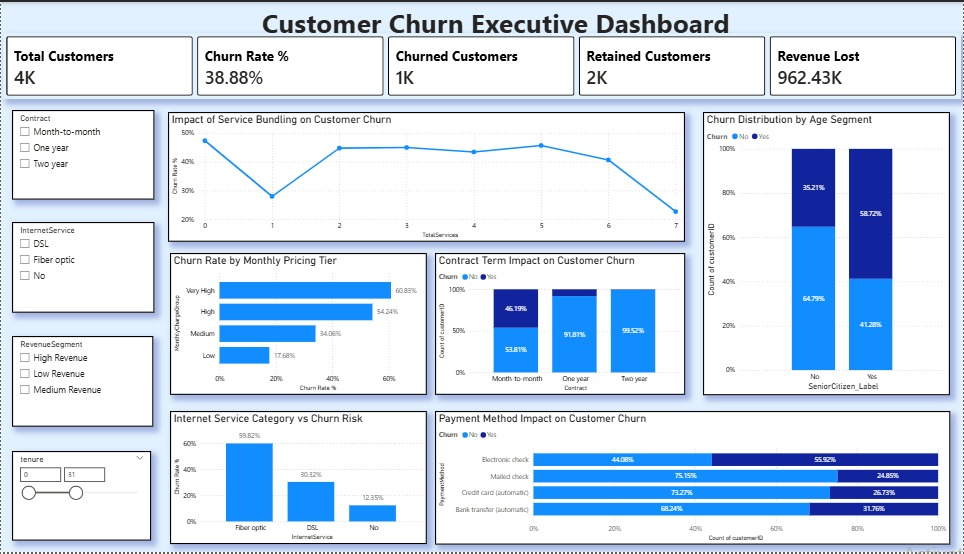

The dashboard page shown, as its layout file describes it:
{"tool":"powerbi","page":{"name":"Executive Overview","canvas":[1750,1000],"ordinal":0},"visuals":[{"type":"cardVisual","fields":{"Data":["TelcoChurn.Total Customers","TelcoChurn.Churn Rate %","TelcoChurn.Churned Customers","TelcoChurn.Retained Customers","TelcoChurn.Revenue Lost"]},"box":[4.1,57.1,1740.8,120.4],"z":0},{"type":"hundredPercentStackedColumnChart","title":"Contract Term Impact on Customer Churn","fields":{"Category":["TelcoChurn.Contract"],"Series":["TelcoChurn.Churn"],"Y":["CountNonNull(TelcoChurn.customerID)"]},"box":[789.1,456.4,454.5,258.2],"z":1000},{"type":"slicer","fields":{"Values":["TelcoChurn.Contract"]},"box":[20.4,195.9,259.2,163.3],"z":3000},{"type":"slicer","fields":{"Values":["TelcoChurn.InternetService"]},"box":[20.4,400,259.2,165.3],"z":4000},{"type":"slicer","fields":{"Values":["TelcoChurn.RevenueSegment"]},"box":[20.4,608.2,257.1,165.3],"z":5000},{"type":"slicer","fields":{"Values":["TelcoChurn.tenure"]},"box":[20.4,816.3,253.1,163.3],"z":6000},{"type":"hundredPercentStackedColumnChart","title":"Churn Distribution by Age Segment","fields":{"Y":["CountNonNull(TelcoChurn.customerID)"],"Series":["TelcoChurn.Churn"],"Category":["TelcoChurn.SeniorCitizen_Label"]},"box":[1276.4,200,449.1,514.5],"z":7000},{"type":"textbox","box":[0,0,1760,83.6],"z":8000},{"type":"clusteredBarChart","title":"Churn Rate by Monthly Pricing Tier","fields":{"Category":["TelcoChurn.MonthlyChargeGroup"],"Y":["TelcoChurn.Churn Rate %"]},"box":[307.3,456.4,467.3,258.2],"z":9000},{"type":"clusteredColumnChart","title":"Internet Service Category vs Churn Risk","fields":{"Category":["TelcoChurn.InternetService"],"Y":["TelcoChurn.Churn Rate %"]},"box":[307.3,743.6,467.3,241.8],"z":10000},{"type":"lineChart","title":"Impact of Service Bundling on Customer Churn","fields":{"Category":["TelcoChurn.TotalServices"],"Y":["TelcoChurn.Churn Rate %"]},"box":[303.6,200,940,236.4],"z":11000},{"type":"hundredPercentStackedBarChart","title":"Payment Method Impact on Customer Churn","fields":{"Category":["TelcoChurn.PaymentMethod"],"Y":["CountNonNull(TelcoChurn.customerID)"],"Series":["TelcoChurn.Churn"]},"box":[789.8,742.9,936.7,242.9],"z":12000}]}

Visuals, with their boxes in screenshot pixels (x1, y1, x2, y2), scaled from the page's 1750x1000 canvas onto the 964x554 screenshot:
cardVisual - TelcoChurn.Total Customers x TelcoChurn.Churn Rate %: <box>2,32,961,98</box>
"Contract Term Impact on Customer Churn" hundredPercentStackedColumnChart: <box>435,253,685,396</box>
slicer - TelcoChurn.Contract: <box>11,109,154,199</box>
slicer - TelcoChurn.InternetService: <box>11,222,154,313</box>
slicer - TelcoChurn.RevenueSegment: <box>11,337,153,429</box>
slicer - TelcoChurn.tenure: <box>11,452,151,543</box>
"Churn Distribution by Age Segment" hundredPercentStackedColumnChart: <box>703,111,951,396</box>
textbox: <box>0,0,963,46</box>
"Churn Rate by Monthly Pricing Tier" clusteredBarChart: <box>169,253,427,396</box>
"Internet Service Category vs Churn Risk" clusteredColumnChart: <box>169,412,427,546</box>
"Impact of Service Bundling on Customer Churn" lineChart: <box>167,111,685,242</box>
"Payment Method Impact on Customer Churn" hundredPercentStackedBarChart: <box>435,412,951,546</box>
